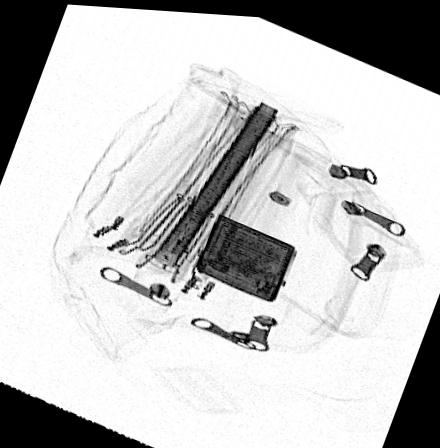Lighter: (194, 208, 298, 299)
